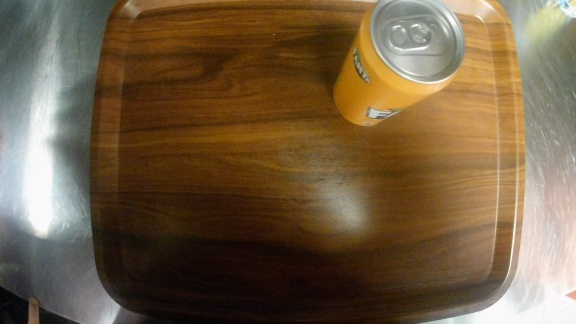kutufanta: (329, 1, 471, 137)
